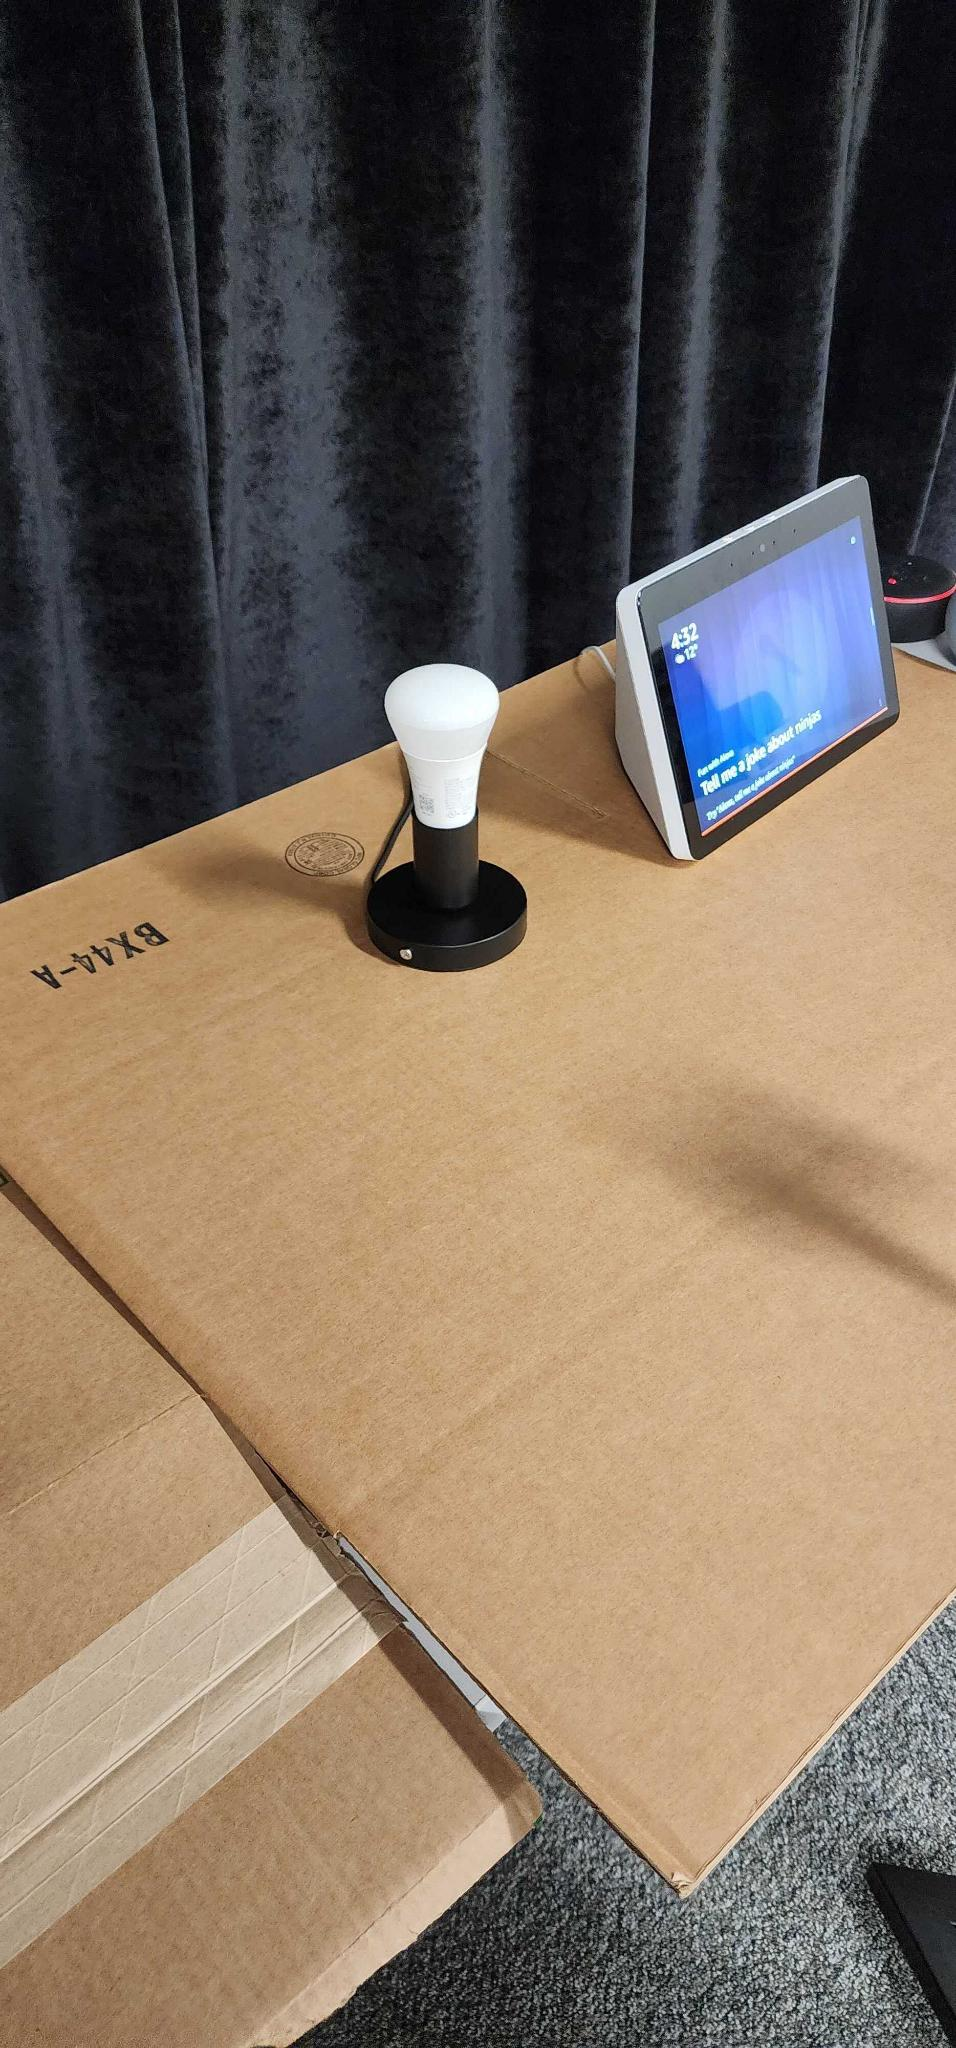Fan: (383, 664, 499, 829)
